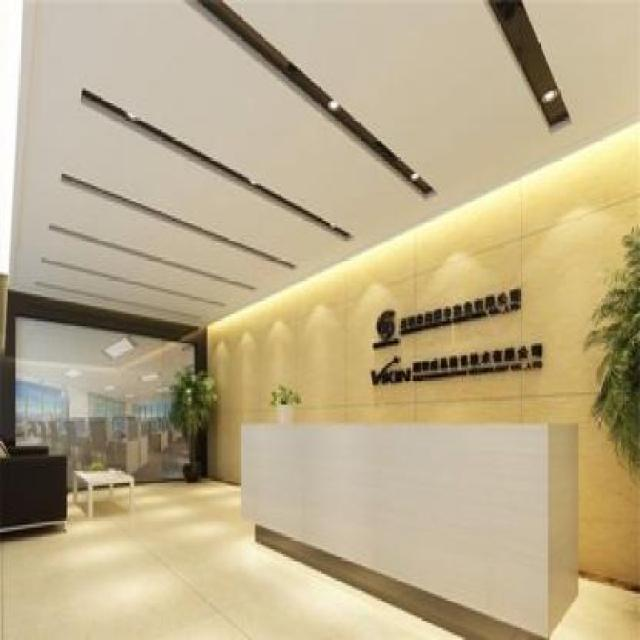frontdesk: (232, 406, 588, 639)
